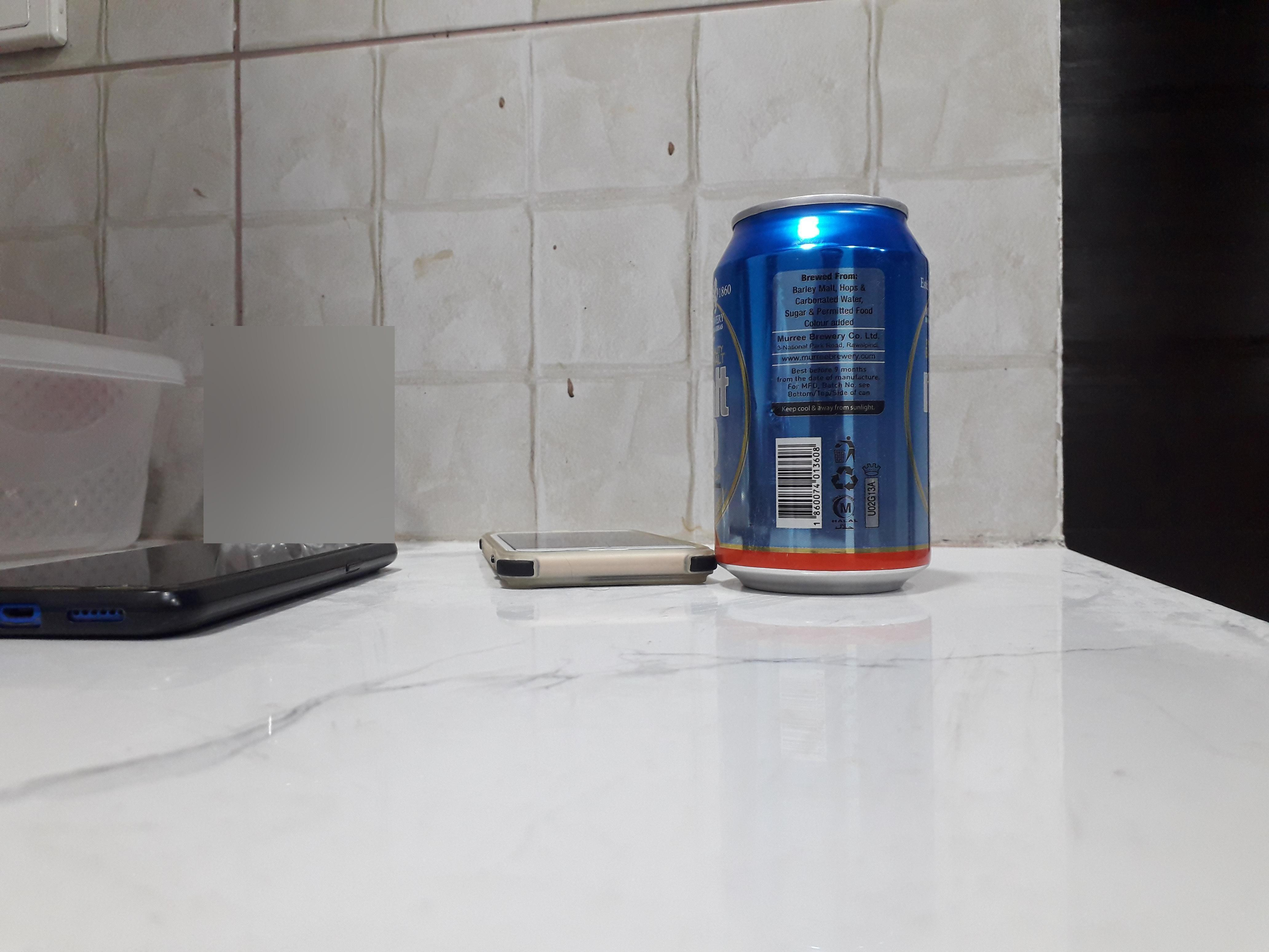tin can: (712, 189, 936, 600)
